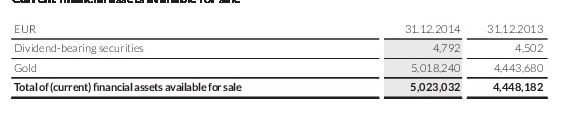table: (0, 0, 567, 113)
